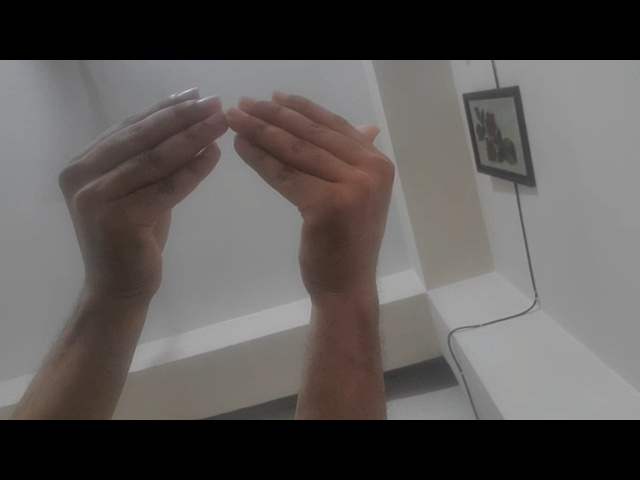Thank you: (24, 77, 417, 327)
